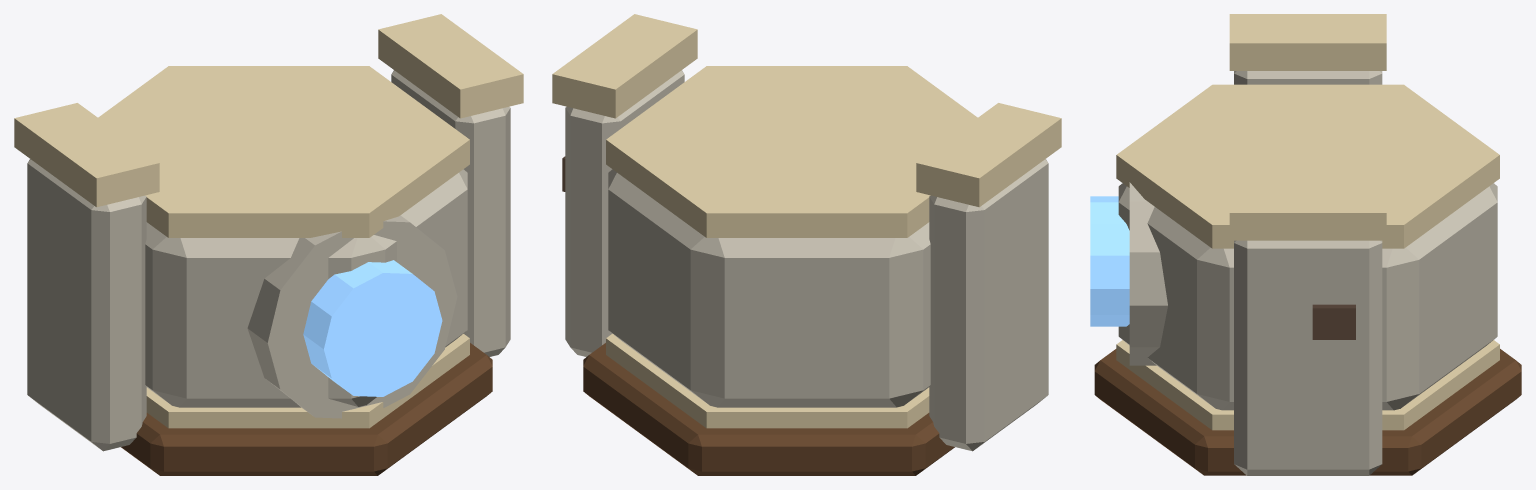
Rendered from core_bulwark.glb.
3 views of the same model, side by side, from view 1: azimuth 30°, elevation 25°; view 2: azimuth 150°, elevation 25°; view 3: azimuth 270°, elevation 25° (orthographic). The views are drawn at different scales.
Parts seen in each view (by area): view 1: core_bulwark; view 2: core_bulwark; view 3: core_bulwark.
Part boxes in pixels (box(x1,y1,x2,y2)): core_bulwark: box(14, 14, 523, 475); core_bulwark: box(552, 14, 1061, 475); core_bulwark: box(1090, 14, 1521, 475).
Bounding box in the file's own units: 1.1 × 0.784 × 0.99.
1 material, 1 textured.
